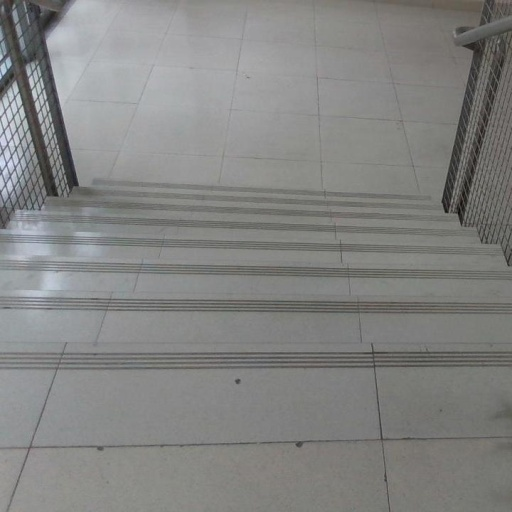Stairs: (8, 181, 512, 512)
